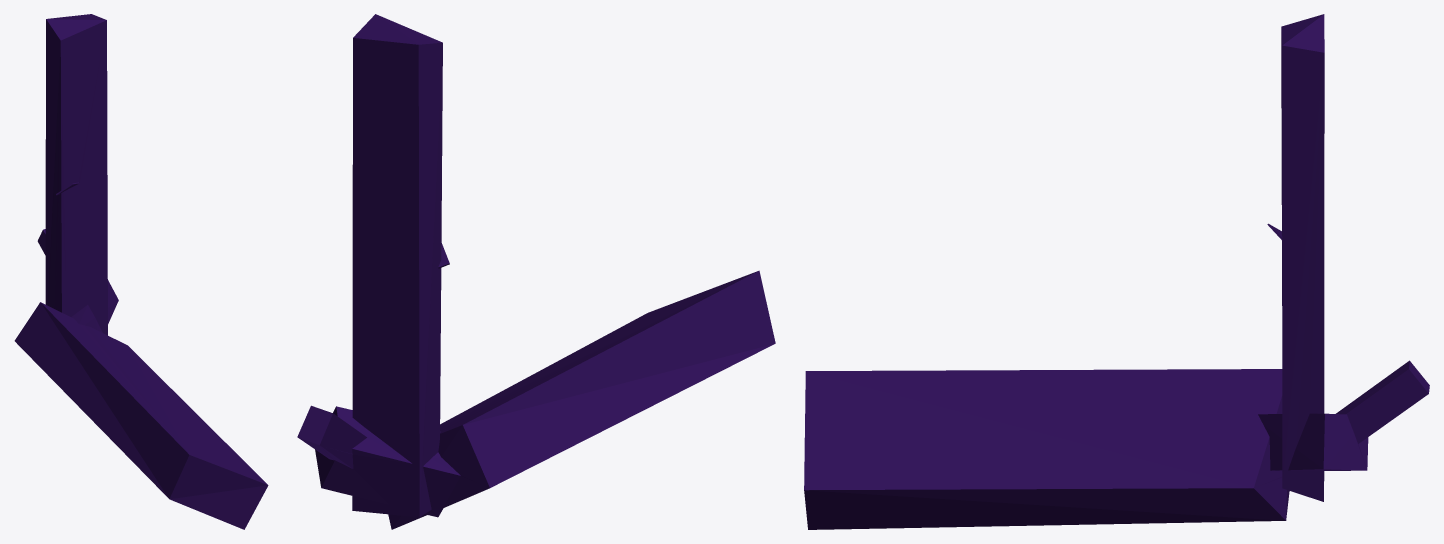
3 views of the same model, side by side, from view 1: azimuth 30°, elevation 25°; view 2: azimuth 150°, elevation 25°; view 3: azimuth 270°, elevation 25° (orthographic). The views are drawn at different scales.
Parts seen in each view (by area): view 1: 991_Cube.3998; view 2: 991_Cube.3998; view 3: 991_Cube.3998.
Part boxes in pixels (bbox=[...]): 991_Cube.3998: bbox=[14, 14, 268, 529]; 991_Cube.3998: bbox=[297, 14, 775, 529]; 991_Cube.3998: bbox=[804, 14, 1429, 529].
Bounding box in the file's own units: 5.24 × 13.87 × 15.42.
